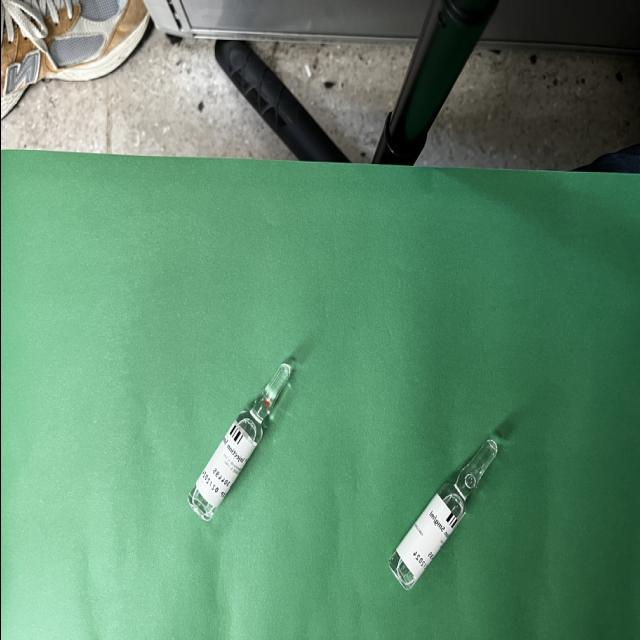Ampoules: (388, 439, 498, 589), (188, 363, 292, 519)
